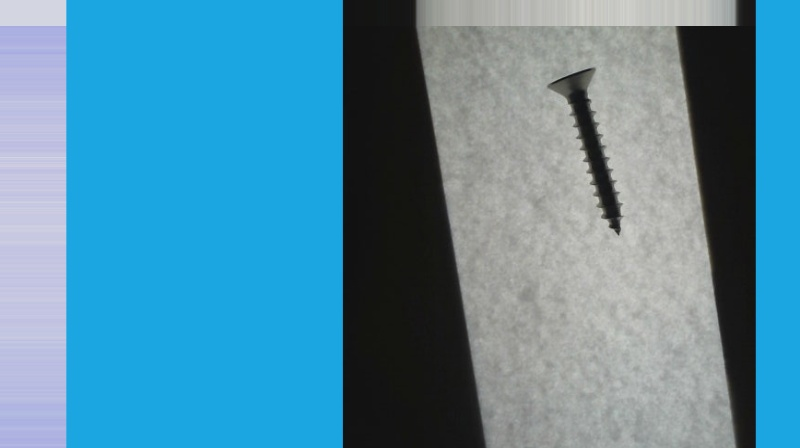S001: (544, 65, 625, 237)
